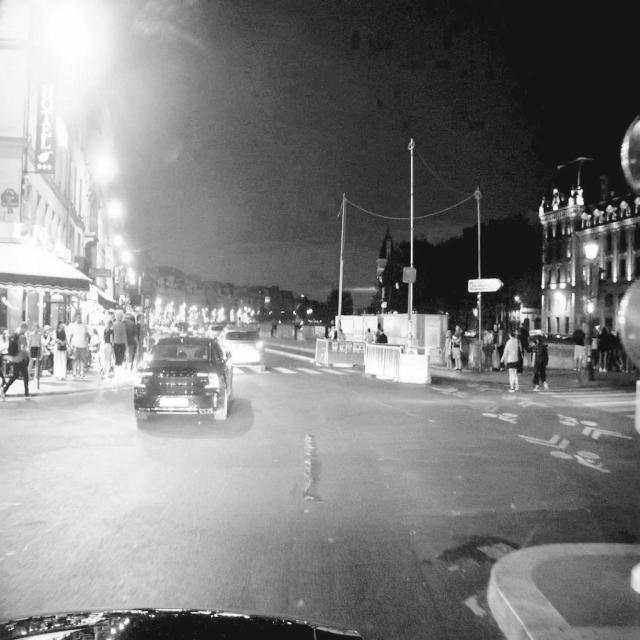Car: (135, 334, 234, 424)
Sign: (615, 277, 639, 373), (621, 115, 639, 197)
